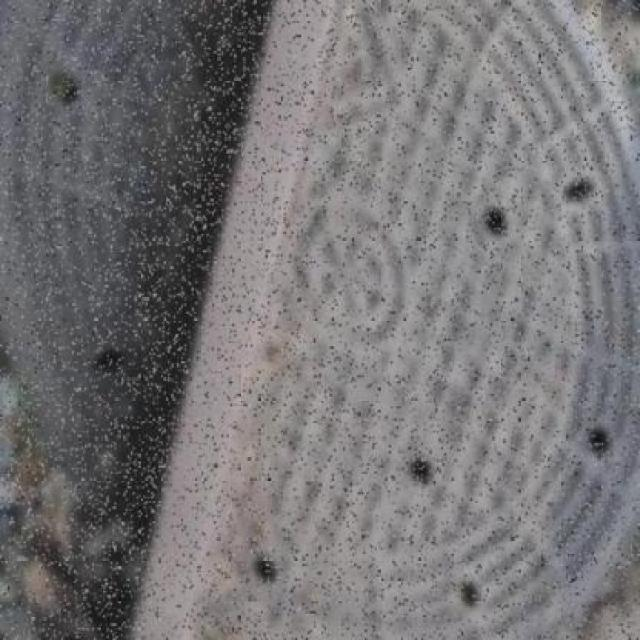Manhole: (2, 1, 636, 636)
